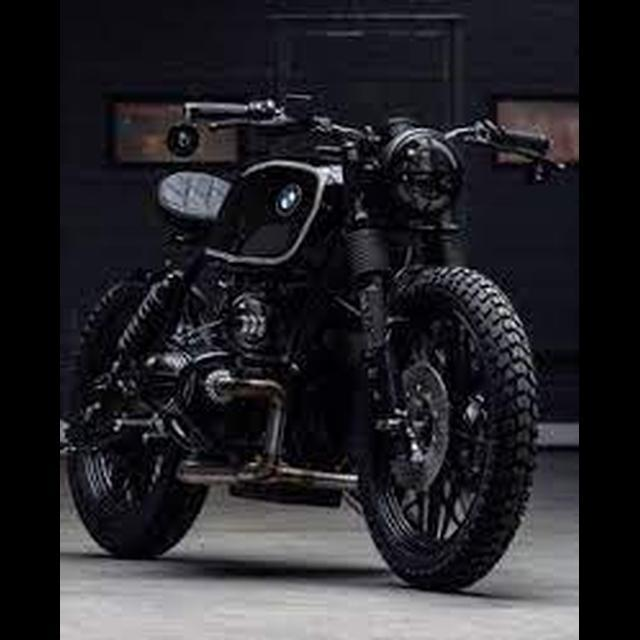motorcycle: (57, 91, 572, 598)
